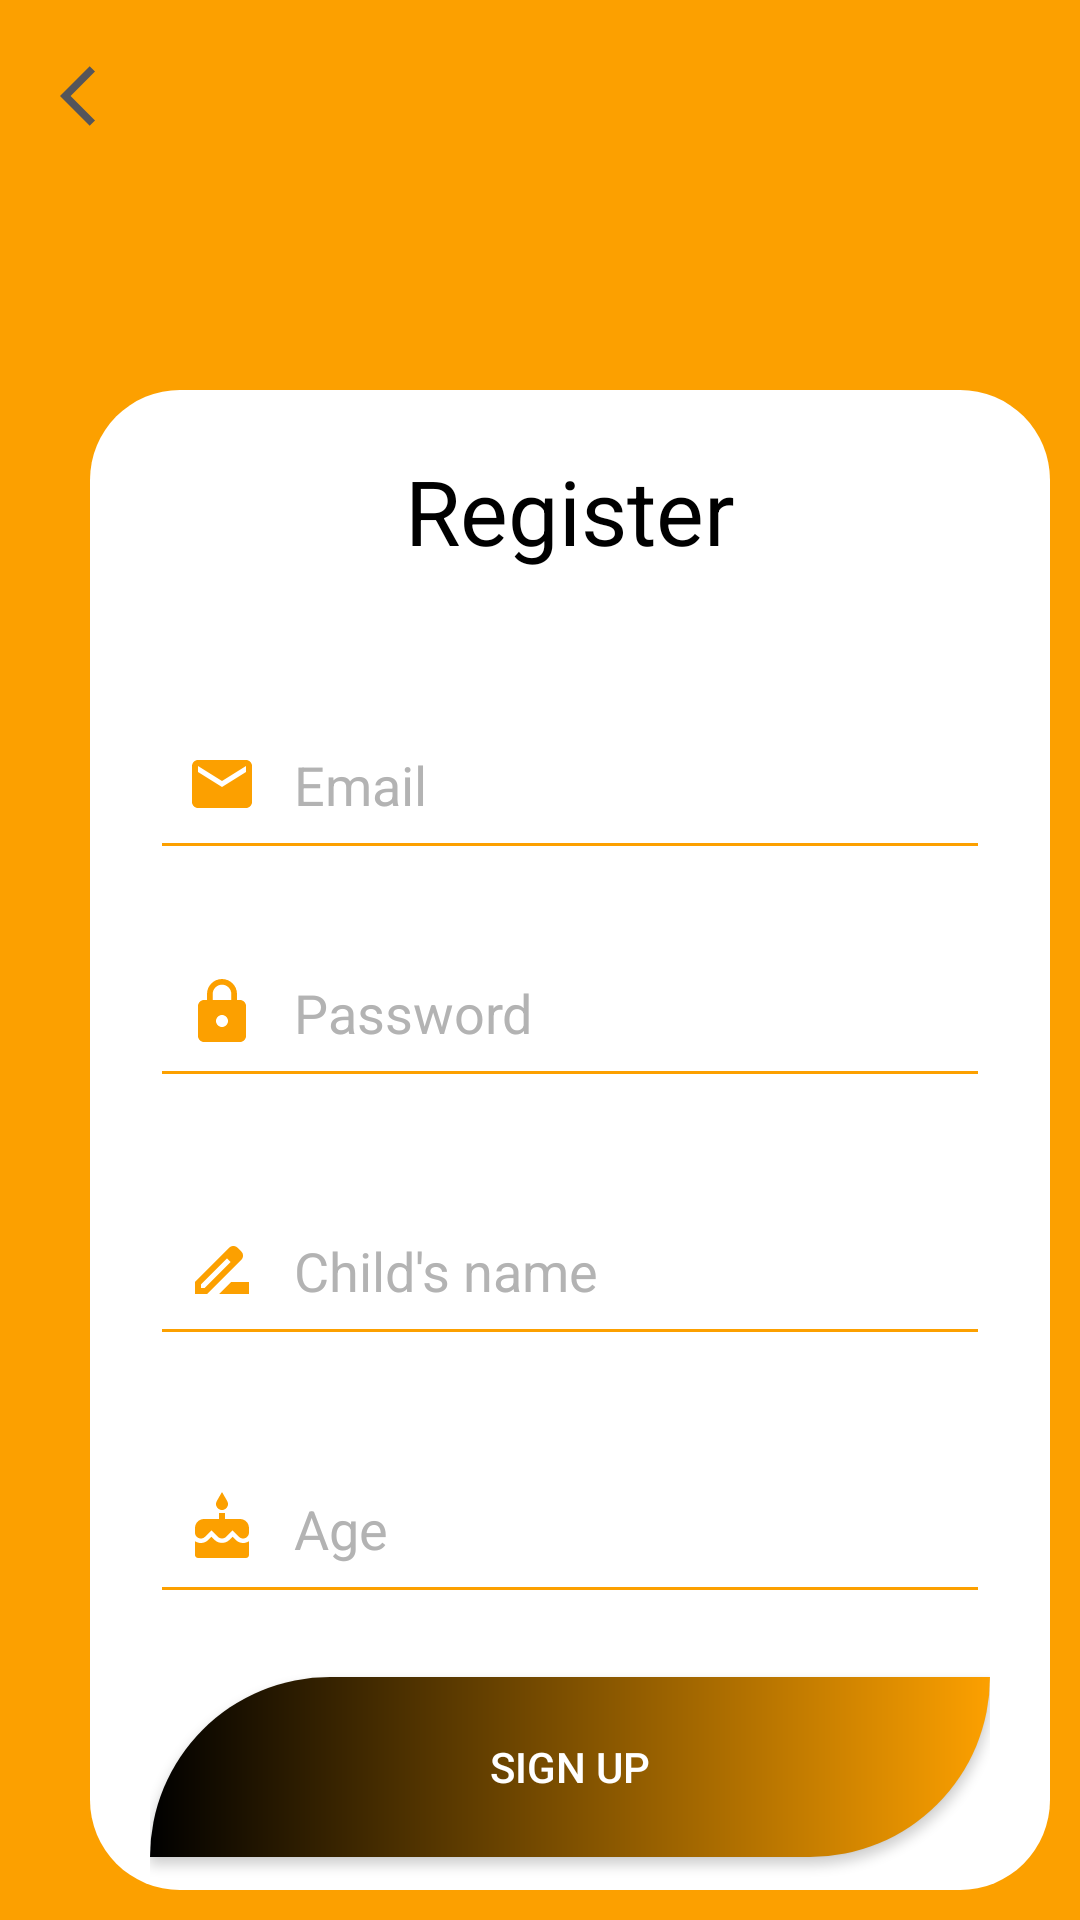

Named icons in this screenshot (1080*1920) and their bounding boxes, (x1, y1, x2, y2):
back: (60, 66, 95, 126)
